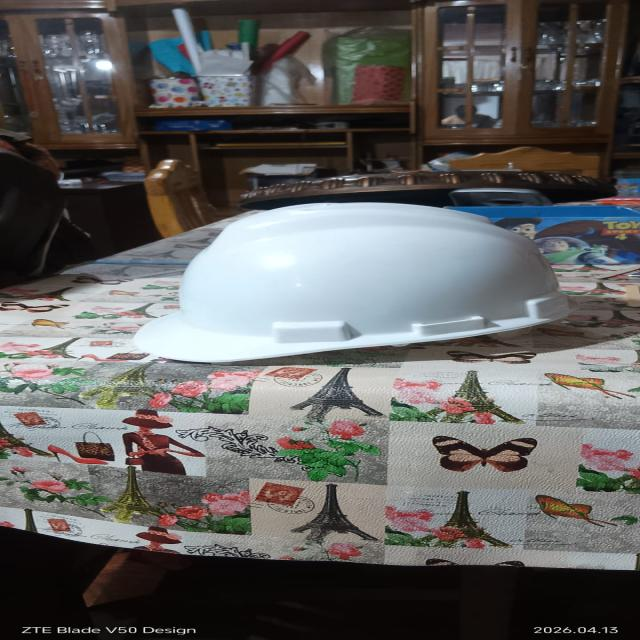casco: (113, 188, 583, 369)
